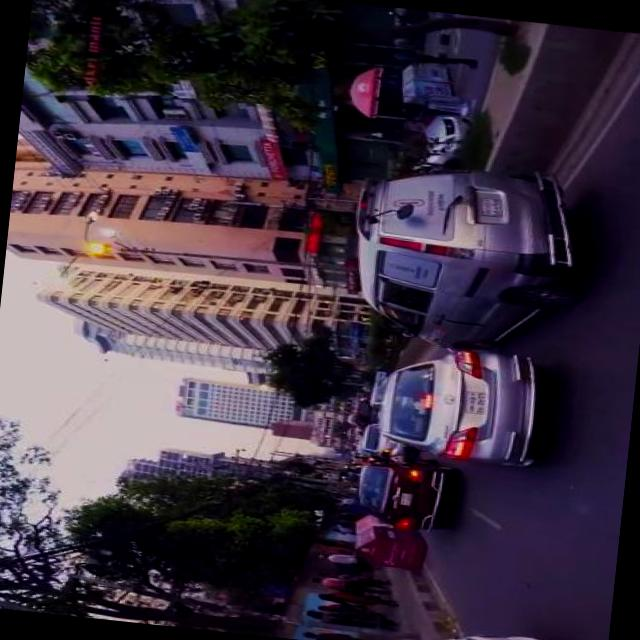car: (370, 342, 539, 468), (350, 450, 449, 533), (400, 110, 470, 178), (356, 420, 410, 458)
truck: (335, 154, 587, 362)
